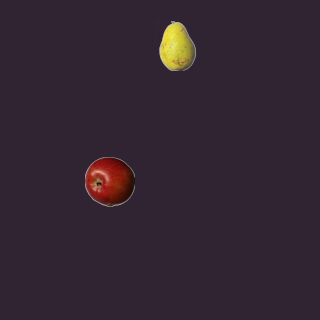Apple Braeburn: (84, 156, 134, 206)
Pear Monster: (152, 20, 202, 70)
